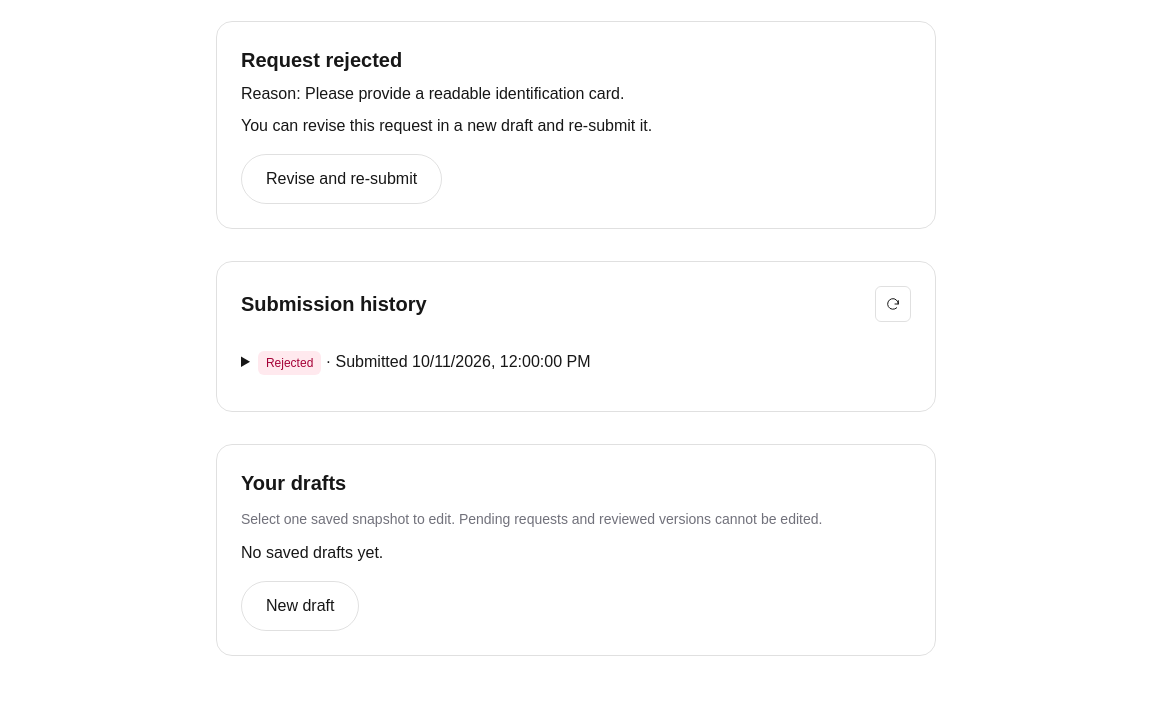
Test case: shows the rejection reason and lets the applicant revise and resubmit
This screenshot has width=1152, height=720.
(page scrolled)
Click the button "New draft": x=300, y=606 [241,581,360,631]
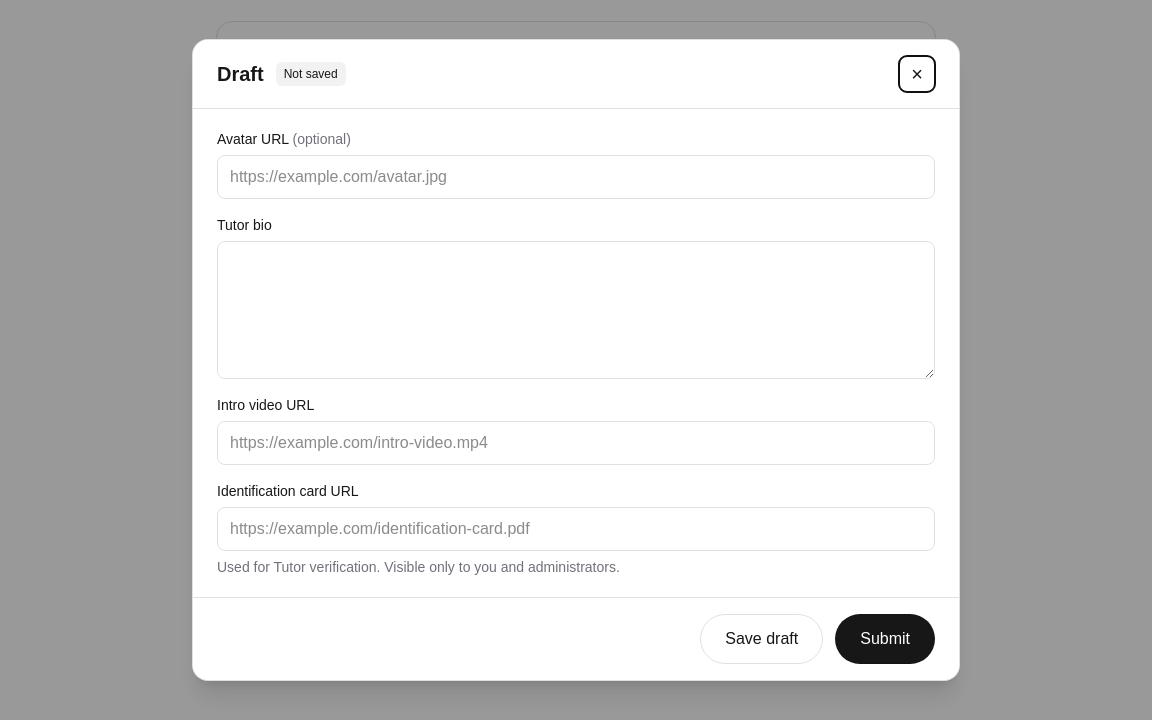
In the text box labelled "Tutor bio": x=576, y=310 [217,241,935,379], type "I teach mathematics."
In the field labelled "Intro video URL": x=576, y=443 [217,421,935,465], type "example.com/intro.mp4"
In the field labelled "Identification card URL": x=576, y=529 [217,507,935,551], type "example.com/id.pdf"
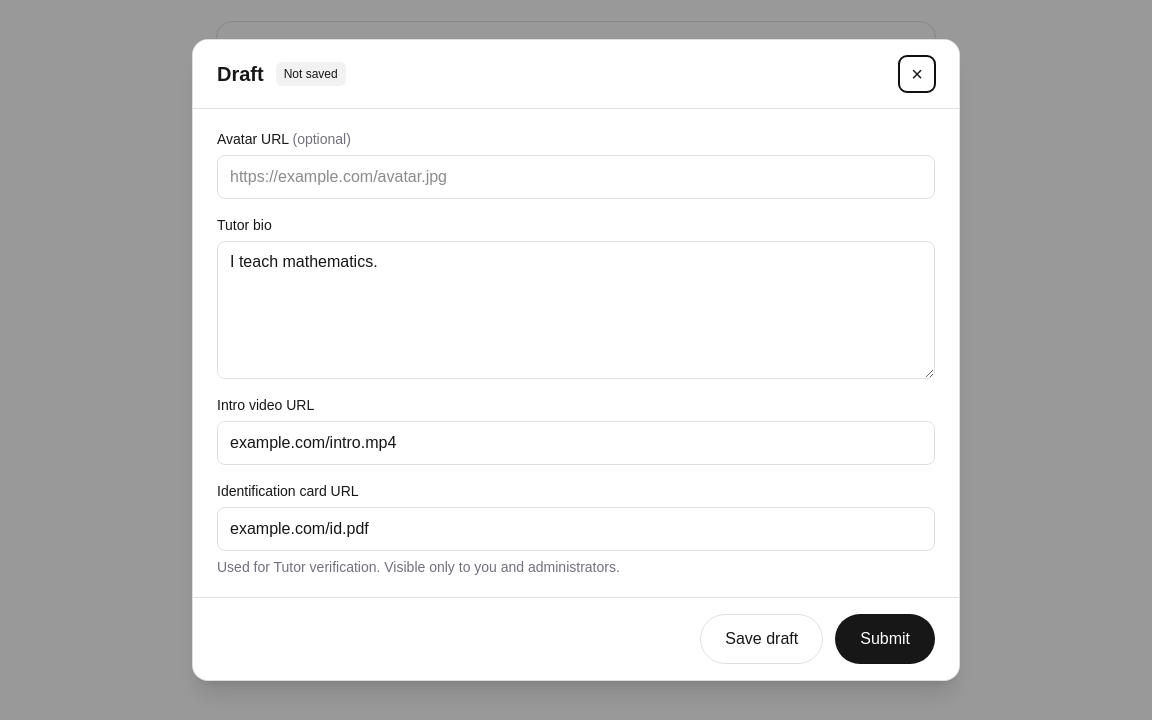
Replace the text in the field labelled "Identification card URL" with "https://example.com/readable.pdf": x=576, y=529 [217,507,935,551]
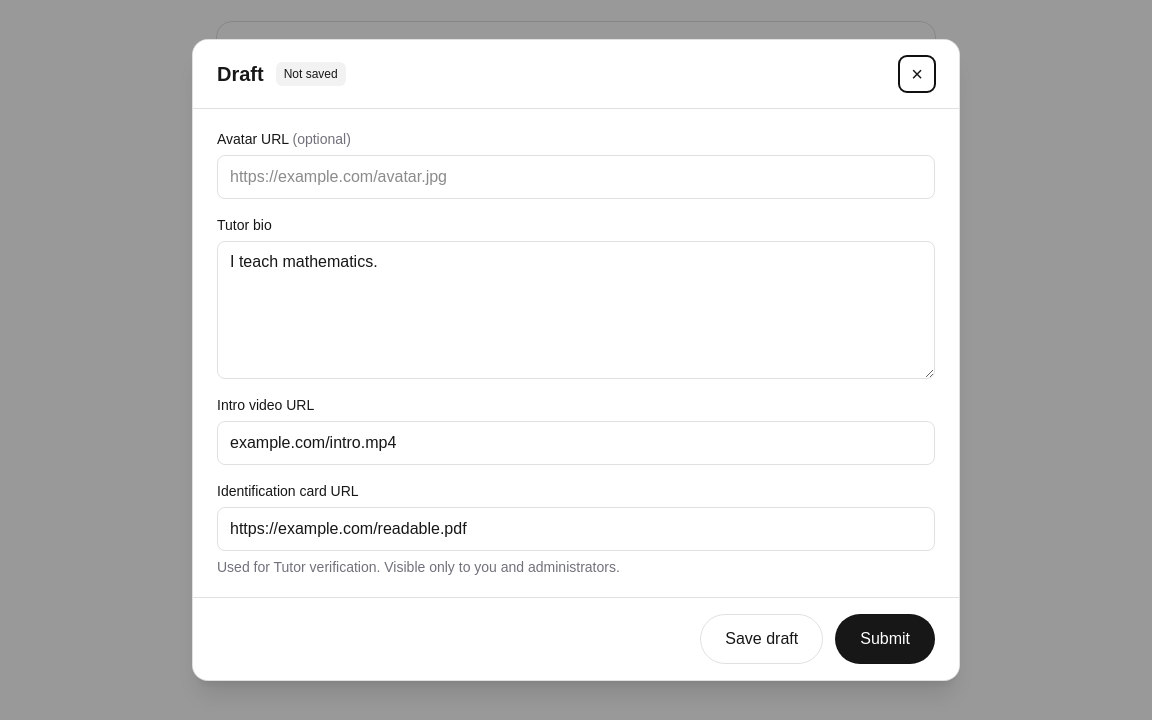
Click the button "Submit": x=885, y=639 [835,614,935,664]
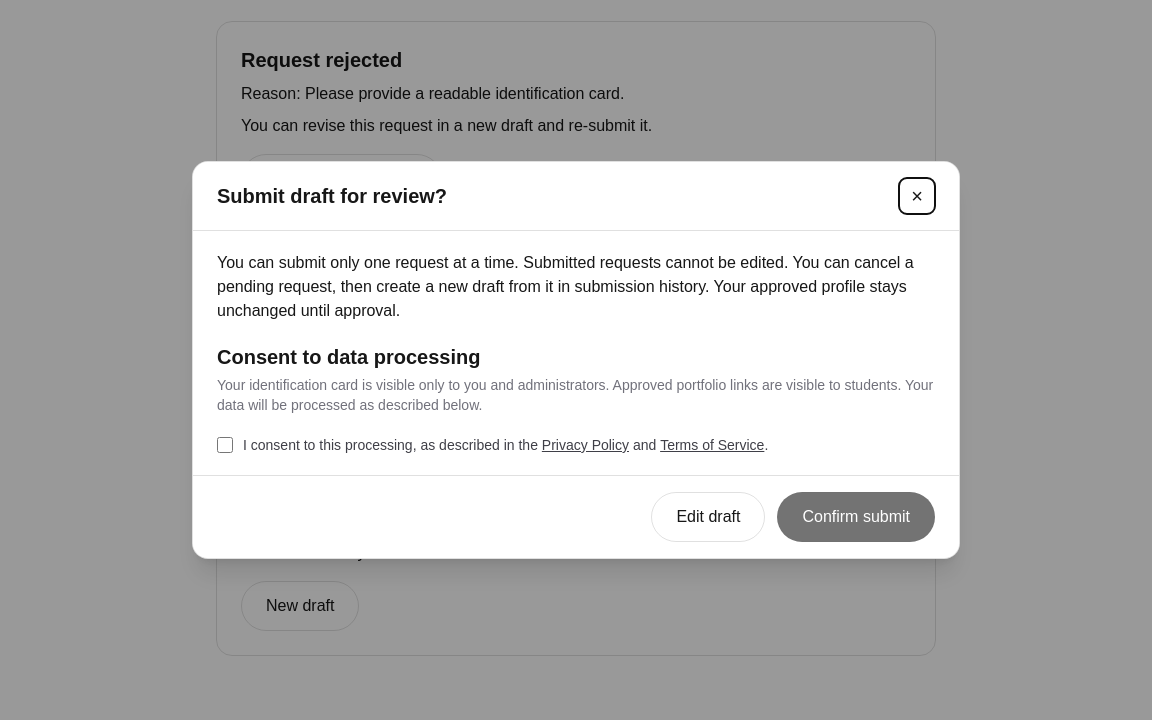
Click the checkbox: x=225, y=445 [217,437,233,453]
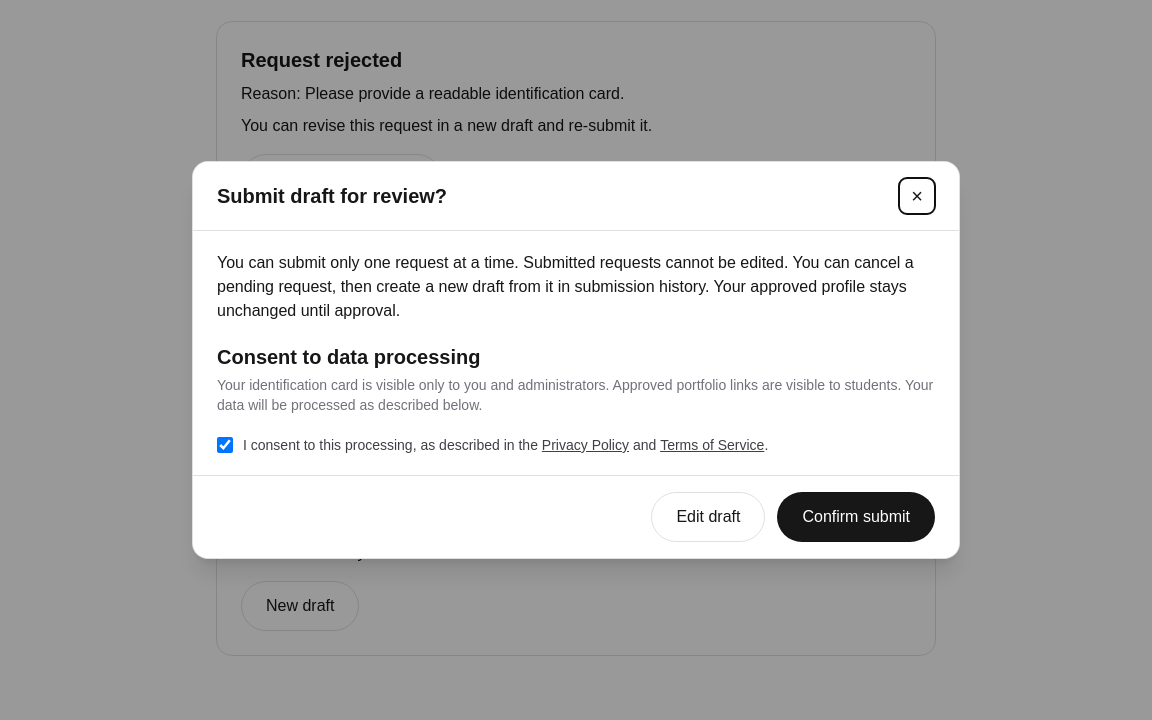
Click the button "Confirm submit": x=856, y=517 [777,492,935,542]
(page scrolled)
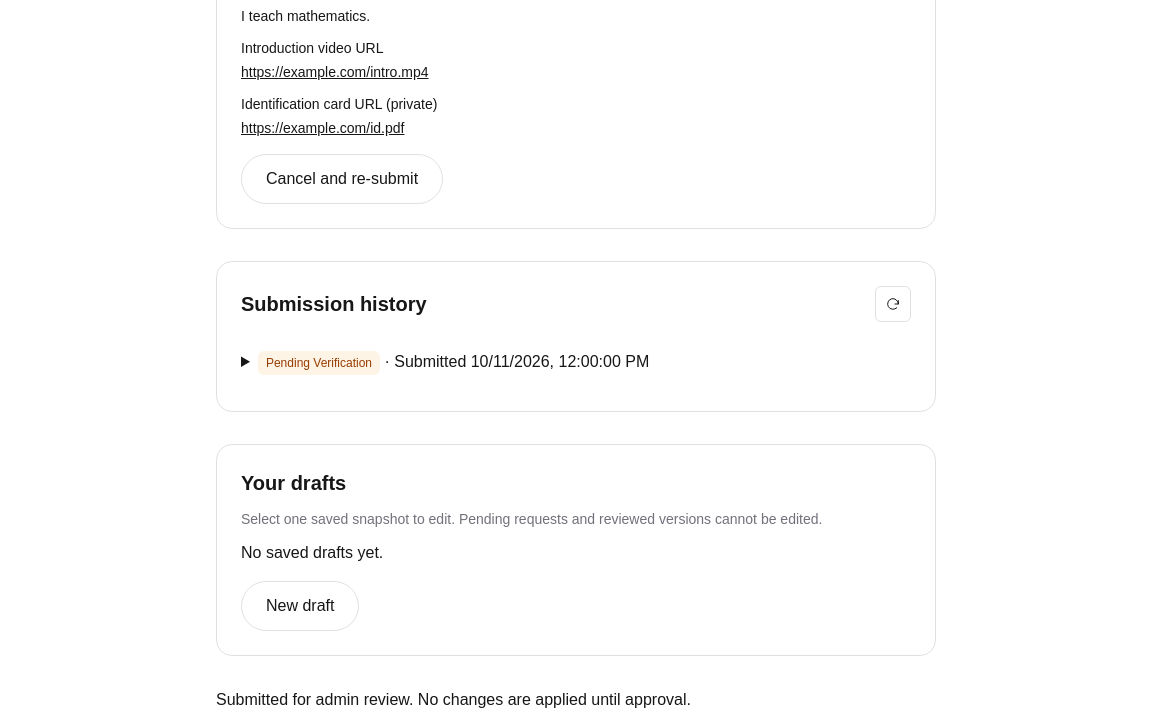
Result: the text "Pending Verification" is shown at [258,351,380,375]
